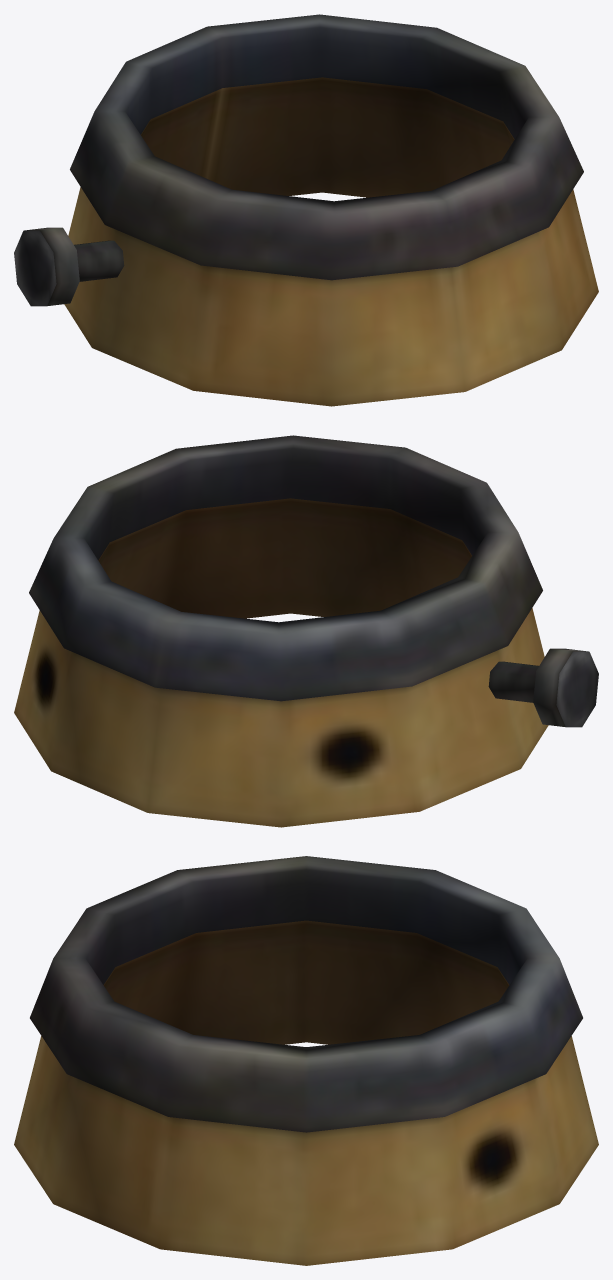
The model's file is barrelHelmet.glb.
3 views of the same model, one above another, from view 1: azimuth 30°, elevation 25°; view 2: azimuth 150°, elevation 25°; view 3: azimuth 270°, elevation 25° (orthographic). The views are drawn at different scales.
Visible parts, largest first — view 1: barrelHelmet; view 2: barrelHelmet; view 3: barrelHelmet.
Boxes of the visible parts, x1,y1,x2,y2 form: barrelHelmet: [14, 14, 598, 406]; barrelHelmet: [14, 435, 598, 827]; barrelHelmet: [14, 856, 598, 1265].
Size of the model in its own units: 0.5565 by 0.1827 by 0.5024.
1 material, 1 textured.
